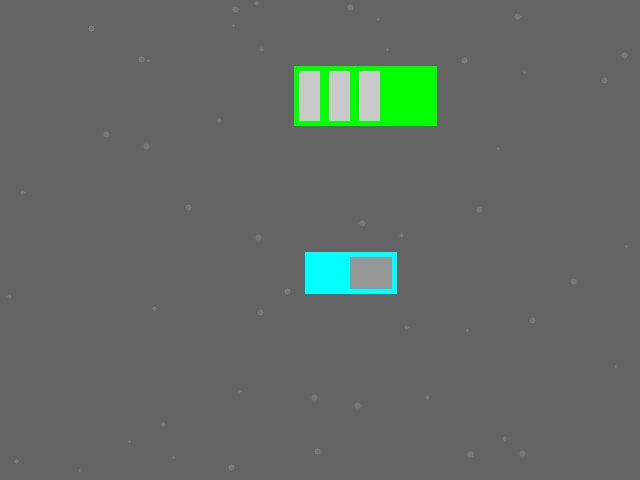bus: (294, 66, 436, 125)
truck: (305, 252, 396, 293)
